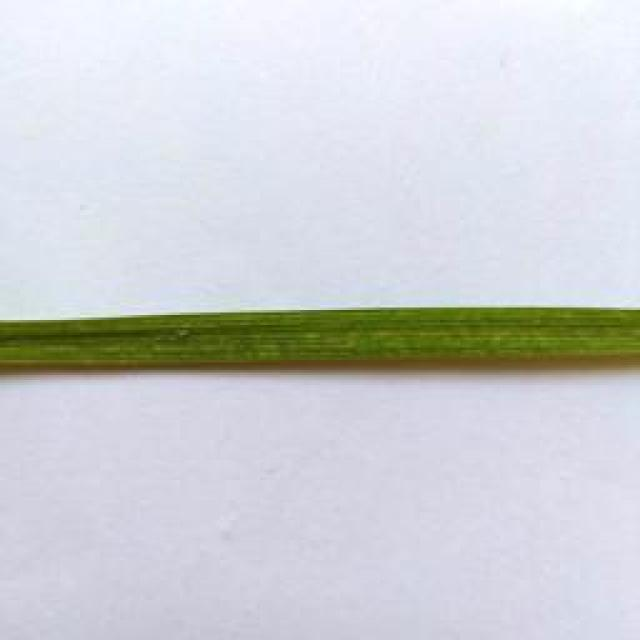Healthy-Plant: (0, 295, 640, 383)
